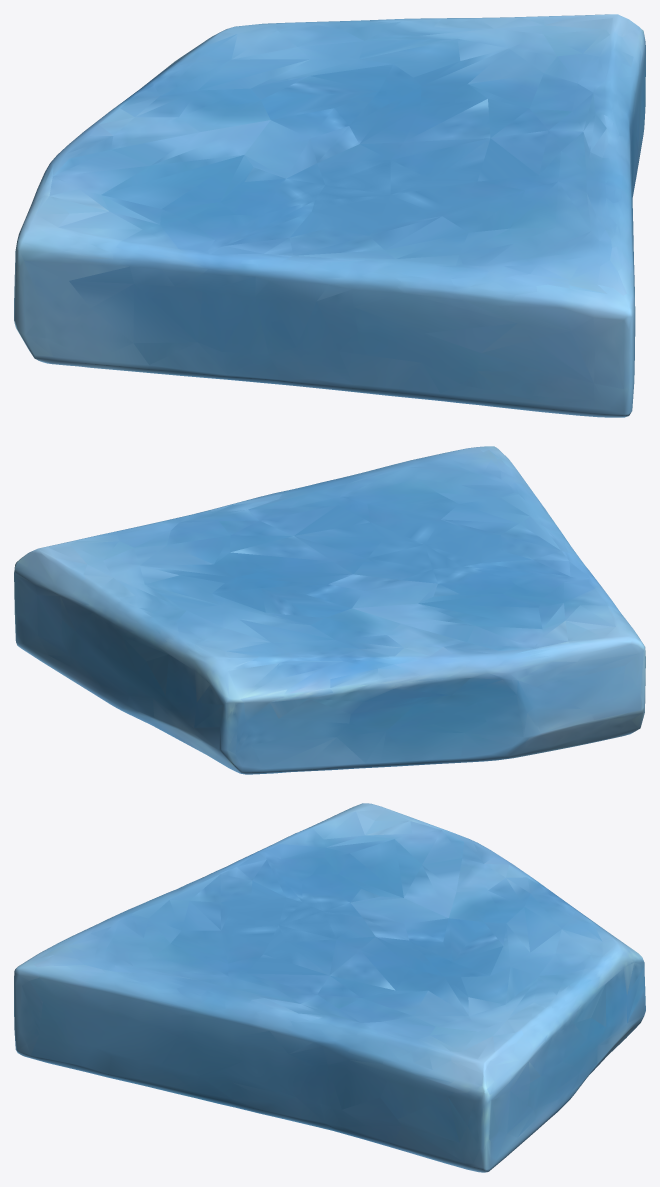
File: placa_hielo_rota_1_2500.glb
The picture shows the model from 3 angles, top to bottom: view 1: azimuth 30°, elevation 25°; view 2: azimuth 150°, elevation 25°; view 3: azimuth 270°, elevation 25°; orthographic projection. The views are drawn at different scales.
Parts seen in each view (by area): view 1: placa_hielo_rota_1_malla; view 2: placa_hielo_rota_1_malla; view 3: placa_hielo_rota_1_malla.
Part boxes in pixels (x1,y1,x2,y2): placa_hielo_rota_1_malla: (14,14,645,417); placa_hielo_rota_1_malla: (14,446,645,774); placa_hielo_rota_1_malla: (14,803,645,1172).
Bounding box in the file's own units: 0.1529 × 0.0277 × 0.1469.
1 material, 1 textured.
